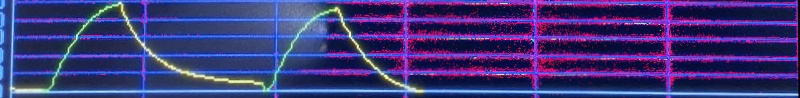normal_volume: (0, 0, 433, 98)
